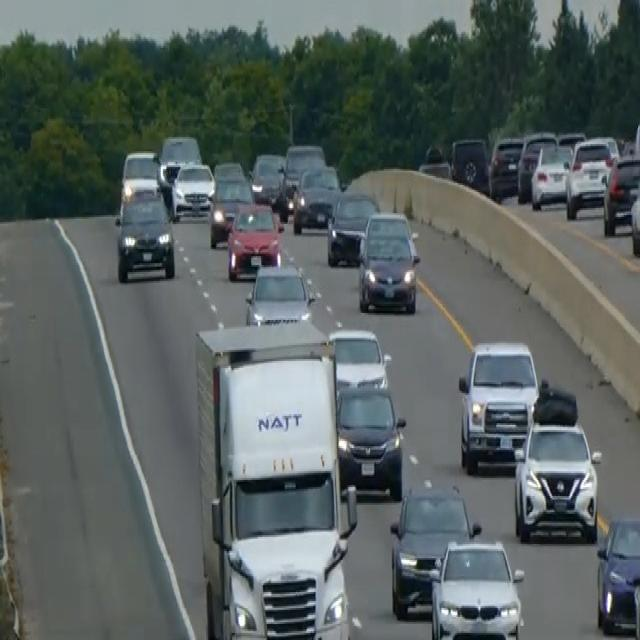car: (513, 386, 601, 542), (389, 482, 480, 618), (457, 338, 539, 473), (428, 537, 525, 638), (335, 380, 406, 498), (357, 208, 420, 313), (114, 181, 175, 283), (595, 512, 639, 636), (226, 199, 283, 279), (244, 262, 315, 326), (328, 325, 391, 393), (326, 188, 379, 266), (565, 137, 614, 219), (292, 162, 342, 233), (279, 142, 326, 217), (207, 173, 254, 247), (602, 151, 639, 235), (119, 148, 169, 210), (516, 130, 557, 201), (530, 140, 571, 210), (170, 160, 215, 220), (449, 135, 490, 194), (488, 133, 524, 199), (159, 131, 201, 185), (250, 149, 285, 208), (417, 142, 451, 180), (212, 156, 245, 185), (629, 167, 639, 256), (632, 558, 639, 638)
lorry: (193, 318, 358, 638)
